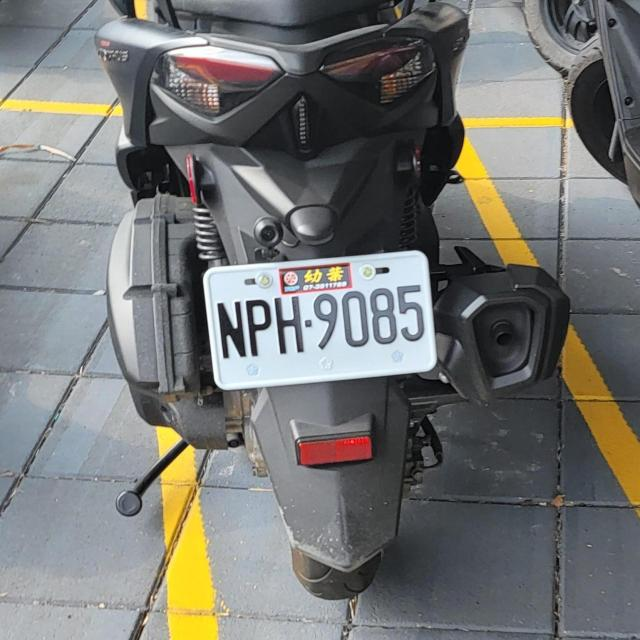W: (201, 246, 437, 390)
